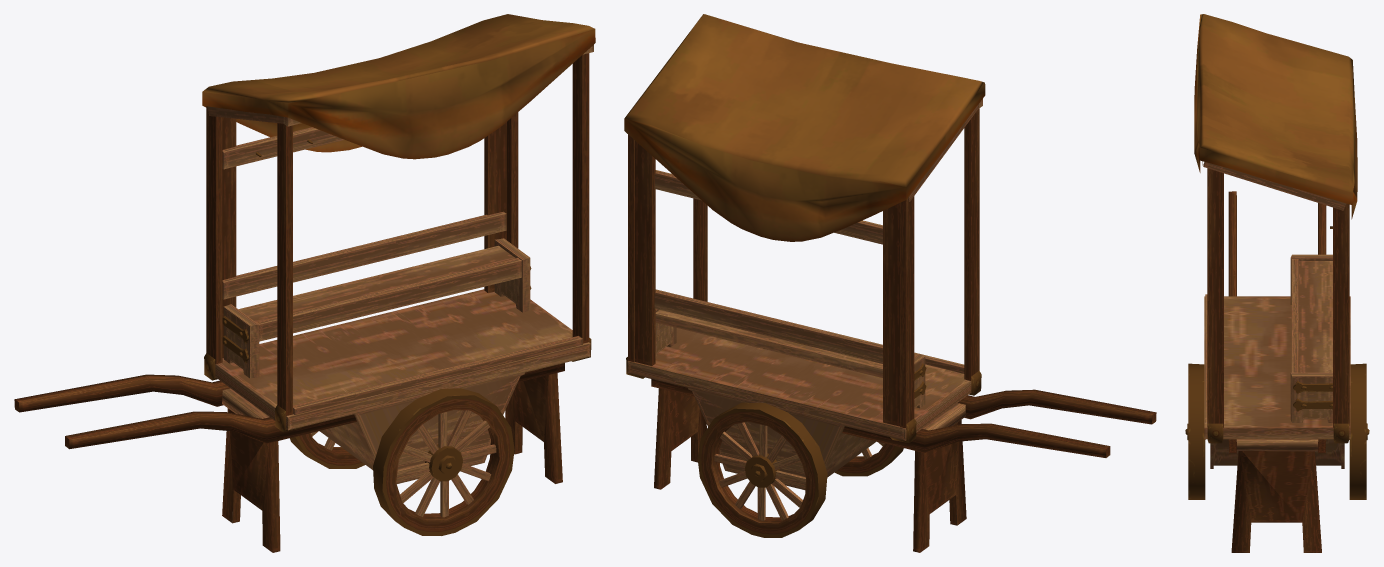
The model's file is cart.lod1.gltf.
3 renders of one model, left to right at view 1: azimuth 30°, elevation 25°; view 2: azimuth 150°, elevation 25°; view 3: azimuth 270°, elevation 25°, orthographic. The views are drawn at different scales.
Parts seen in each view (by area): view 1: Stall_Cart_Empty; view 2: Stall_Cart_Empty; view 3: Stall_Cart_Empty.
Boxes of the visible parts, left/top/right/bottom form: Stall_Cart_Empty: left=14, top=14, right=595, bottom=552; Stall_Cart_Empty: left=624, top=14, right=1156, bottom=552; Stall_Cart_Empty: left=1185, top=14, right=1369, bottom=552.
Bounding box in the file's own units: 3.02 × 2.64 × 1.06.
3 materials, 3 textured.
